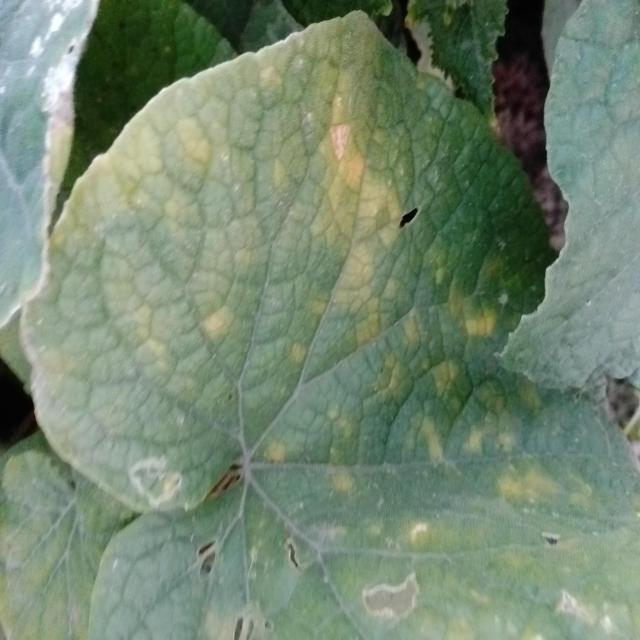cucumber_downy: (69, 76, 514, 460), (223, 464, 640, 640)
